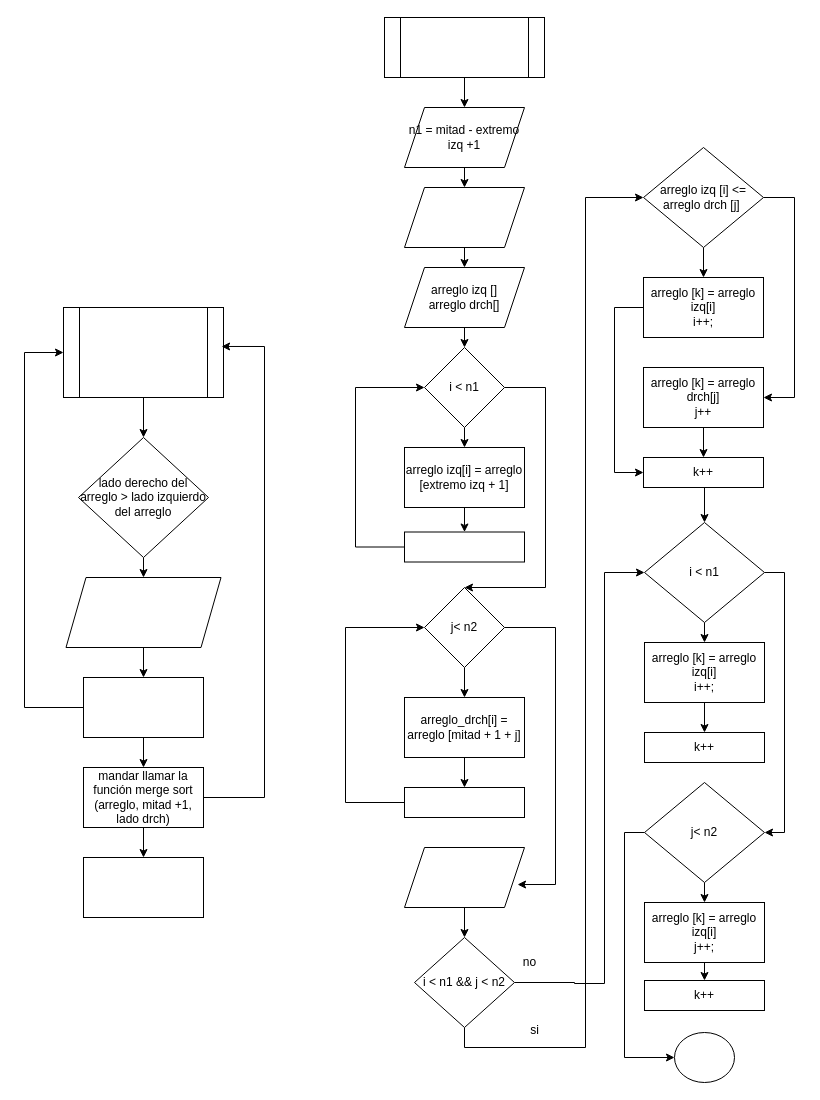
Some shapes in this 820 by 1100 pixel diagram are drawn without their labels. Each missing label, with the centre of its shape:
fin: the point at 704,1057
función merge (lado izq del arreglo, mitad, lado derecho): the point at 143,887
i++: the point at 464,546
int i = 0; int j = 0; int k= izq;: the point at 464,877
j++: the point at 464,802
mandar llamar la función merge sort (arreglo, lado izquierdo, mitad): the point at 143,707
merge(arrgelo, extremo izquierdo, mitad, extremo derecho): the point at 464,47
merge_sort(arreglo, lado izq del arreglo, lado drch del arreglo): the point at 143,352
mitad = lado izq + (lado drch - lado izq) / 2: the point at 143,612
n1 = extremo drch - mitad: the point at 464,217
